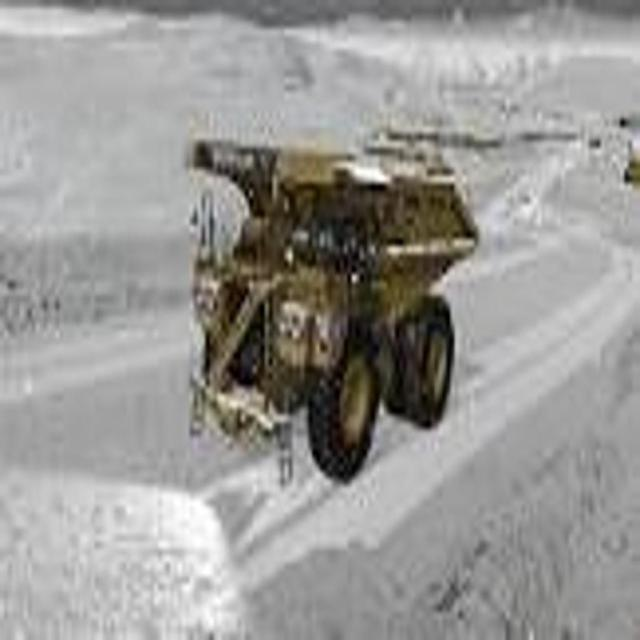dump_truck: (187, 115, 479, 498)
